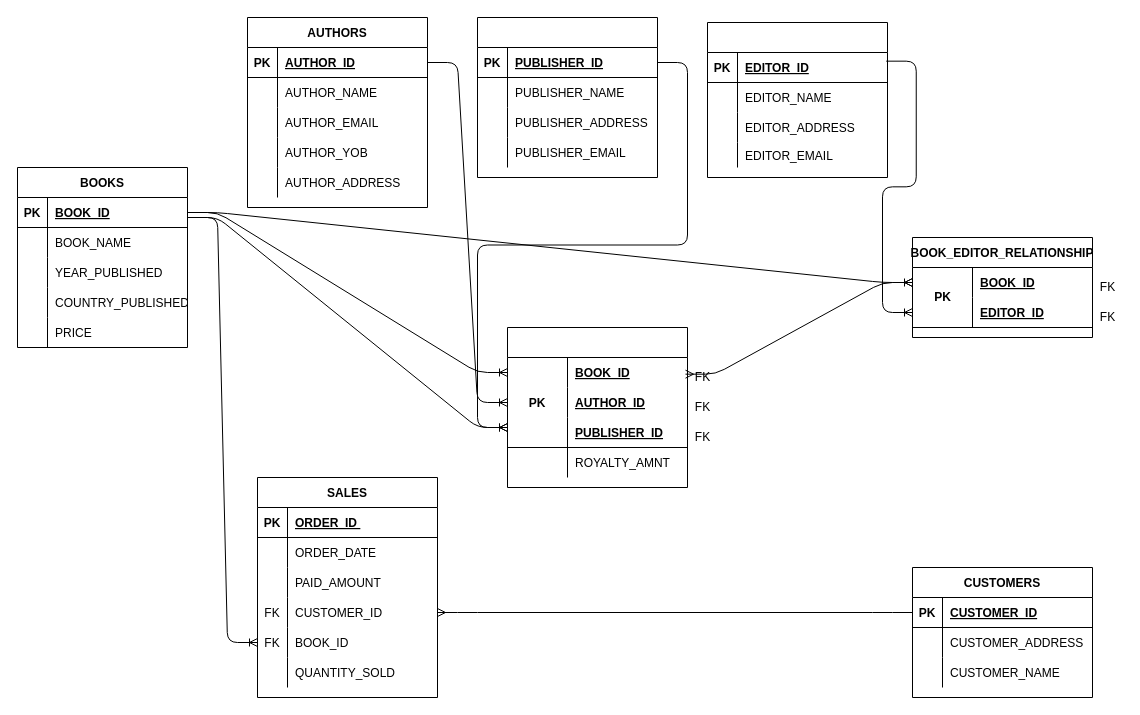
Some shapes in this 1140 by 715 pixel diagram are drawn without their labels. The box of each missing label's shape, as (x1, y1, x2, y2) in pixels:
BOOK_AUTHOR_PUBLISHER_RELATIONSHIP: (506, 326, 688, 488)
EDITORS: (706, 22, 888, 178)
PUBLISHERS: (476, 16, 658, 178)
